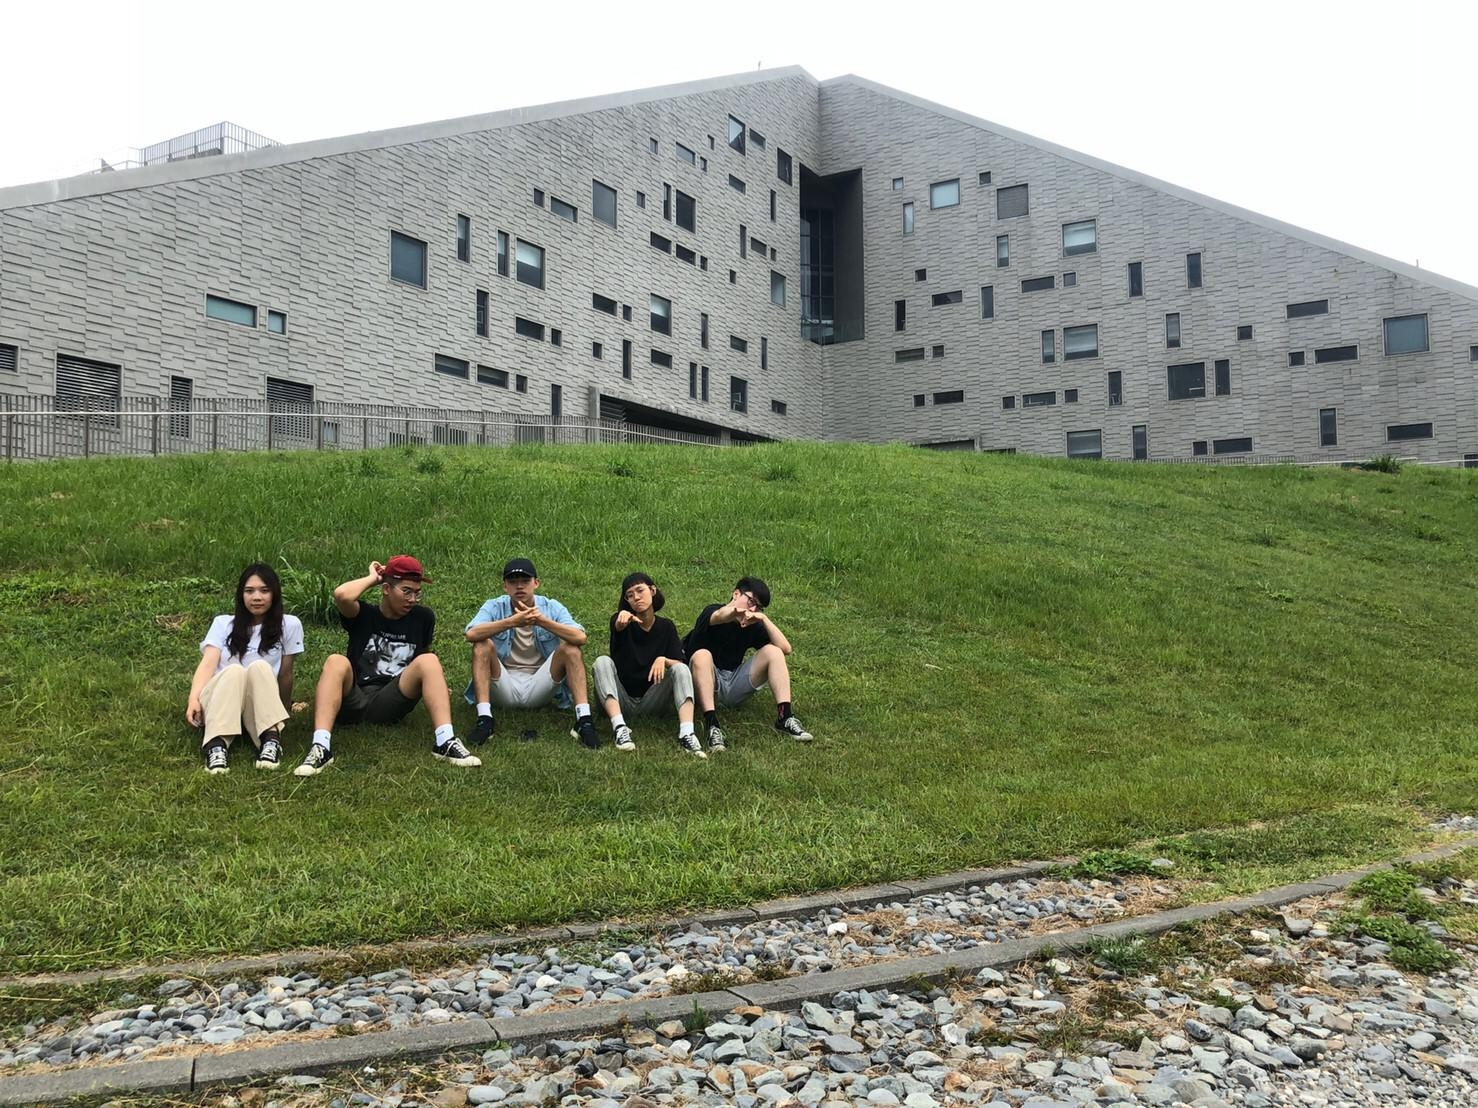people: (681, 557, 808, 761), (340, 542, 452, 771), (465, 555, 590, 748), (194, 561, 296, 775), (613, 567, 702, 767)
